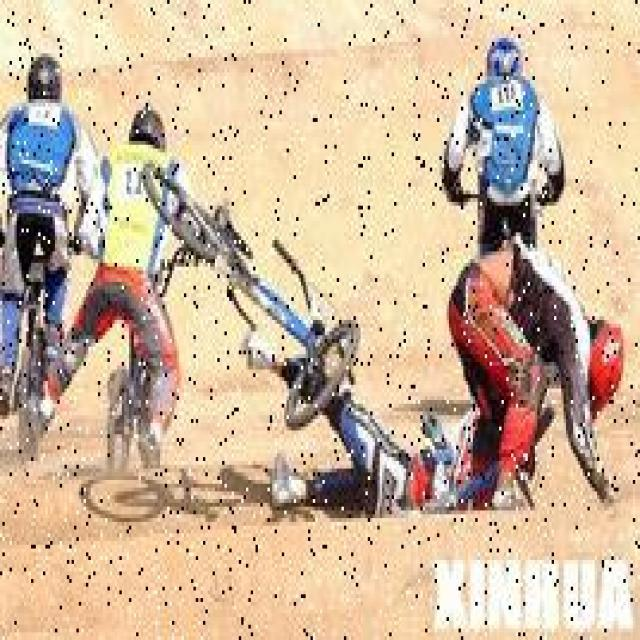fall: (262, 339, 494, 507)
